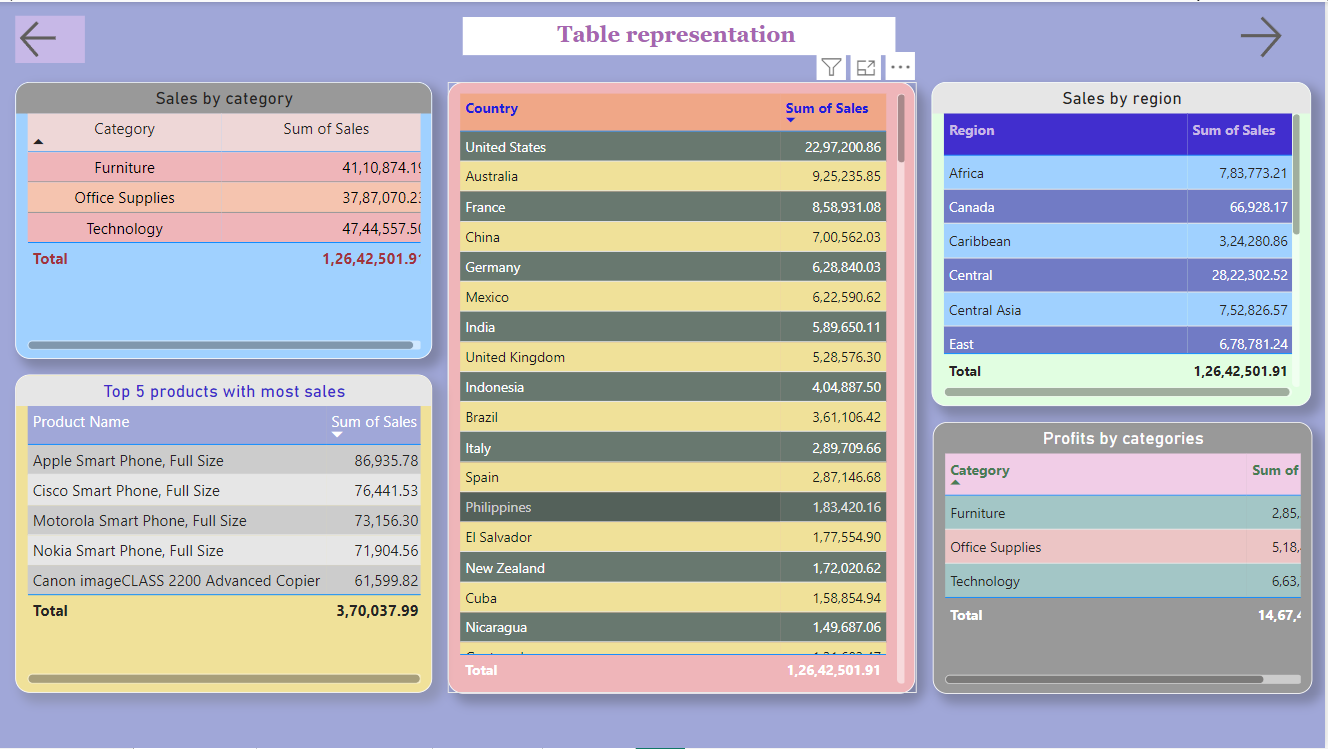

This screenshot's page, from the dashboard's own definition file:
{"tool":"powerbi","page":{"name":"Tables","canvas":[1280,720],"ordinal":3},"visuals":[{"type":"tableEx","title":"Sales by category","fields":{"Values":["Orders.Category","Sum(Orders.Sales)"]},"box":[15.1,76.8,402.1,267.6],"z":0},{"type":"tableEx","fields":{"Values":["Orders.Country","Sum(Orders.Sales)"]},"box":[433.6,76.8,451.5,590.1],"z":1000},{"type":"tableEx","title":"Top 5 products with most sales","fields":{"Values":["Orders.Product Name","Sum(Orders.Sales)"]},"box":[15.1,359.5,402.1,307.4],"z":2000},{"type":"tableEx","title":"Profits by categories","fields":{"Values":["Orders.Category","Sum(Orders.Profit)"]},"box":[901.5,404.8,366.4,262.1],"z":3000},{"type":"textbox","box":[447,13.9,417.9,36.7],"z":4000},{"type":"tableEx","title":"Sales by region","fields":{"Values":["Orders.Region","Sum(Orders.Sales)"]},"box":[900.2,76.8,366.4,312.9],"z":5000},{"type":"actionButton","box":[15.1,13.7,67.2,45.3],"z":6000},{"type":"actionButton","box":[1192.5,8.2,64.5,50.8],"z":7000}]}

Visuals, with their boxes in screenshot pixels (x1, y1, x2, y2), scaled from the page's 1280x720 canvas onto the 1328x749 screenshot:
"Sales by category" tableEx: (left=16, top=80, right=433, bottom=358)
tableEx - Orders.Country x Sum(Orders.Sales): (left=450, top=80, right=918, bottom=694)
"Top 5 products with most sales" tableEx: (left=16, top=374, right=433, bottom=694)
"Profits by categories" tableEx: (left=935, top=421, right=1315, bottom=694)
textbox: (left=464, top=14, right=897, bottom=53)
"Sales by region" tableEx: (left=934, top=80, right=1314, bottom=405)
actionButton: (left=16, top=14, right=85, bottom=61)
actionButton: (left=1237, top=9, right=1304, bottom=61)
